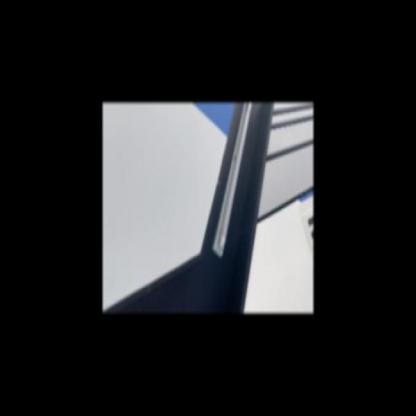light_off: (210, 103, 254, 264)
